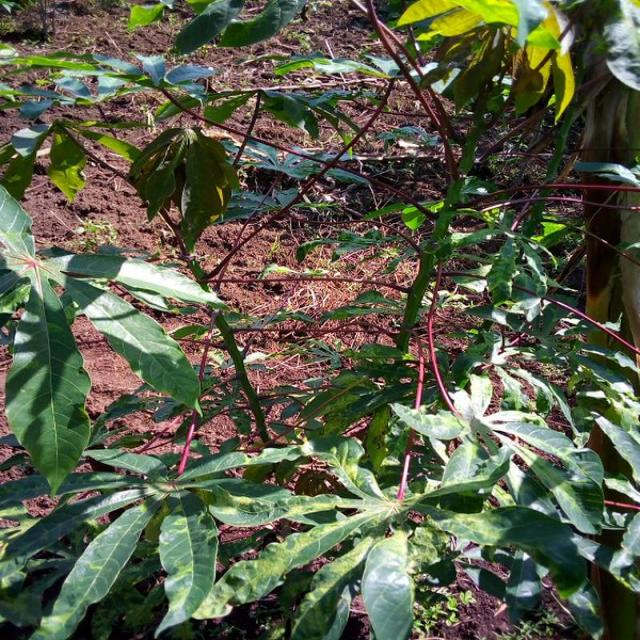cassava leaf: (1, 0, 638, 638), (63, 274, 202, 417), (4, 271, 92, 496)
